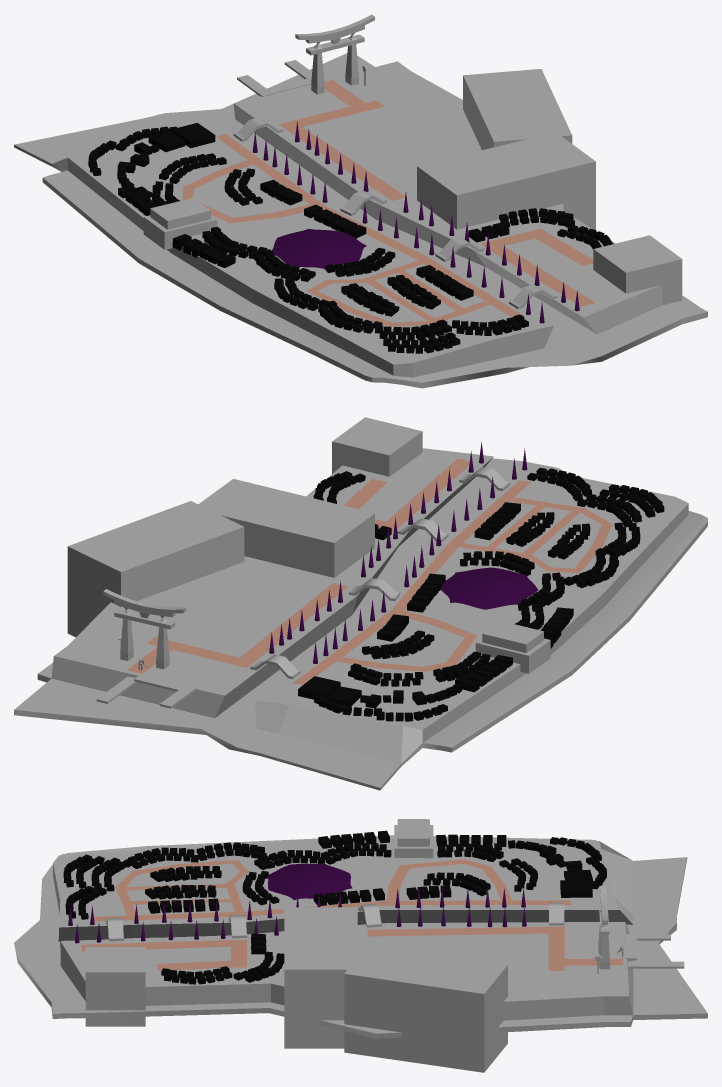
Rendered from gREYboX_LevelOne.fbx.
3 renders of one model, top to bottom at view 1: azimuth 30°, elevation 25°; view 2: azimuth 150°, elevation 25°; view 3: azimuth 270°, elevation 25°, orthographic. The views are drawn at different scales.
Visible parts, largest first — view 1: polySurface385; view 2: polySurface385; view 3: polySurface385.
Part boxes in pixels (left/top/right/bottom): polySurface385: left=14, top=14, right=707, bottom=388; polySurface385: left=14, top=417, right=707, bottom=790; polySurface385: left=14, top=819, right=707, bottom=1072.
Size of the model in its own units: 10500 by 2584 by 15274.
